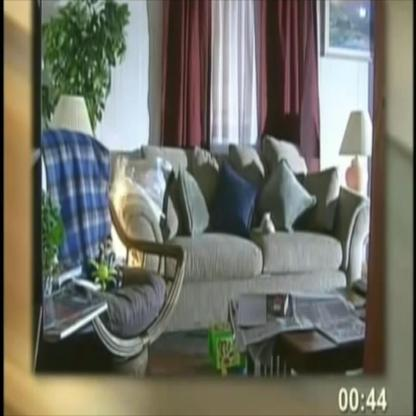fire: (107, 151, 141, 266)
